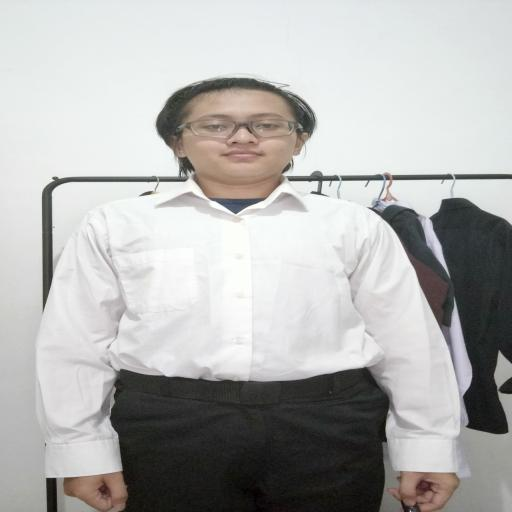celana_benar: (102, 399, 414, 512)
kemeja_benar: (49, 192, 434, 374)
sabuk_ada: (100, 364, 403, 408)
